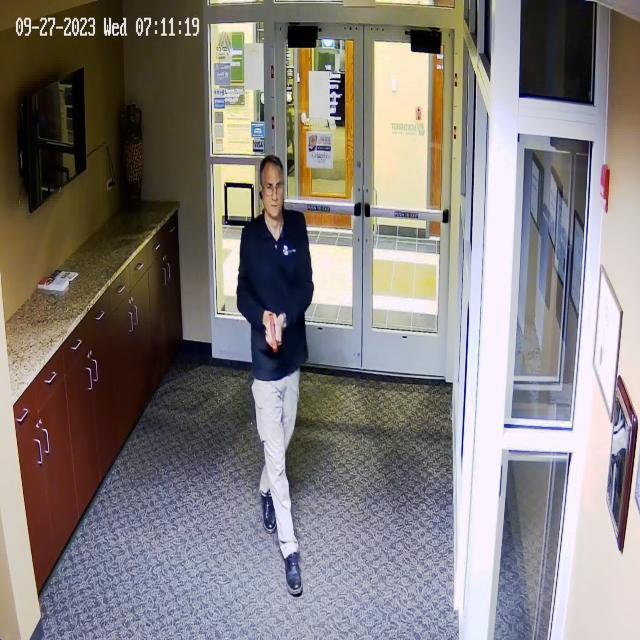Gun: (260, 307, 296, 361)
